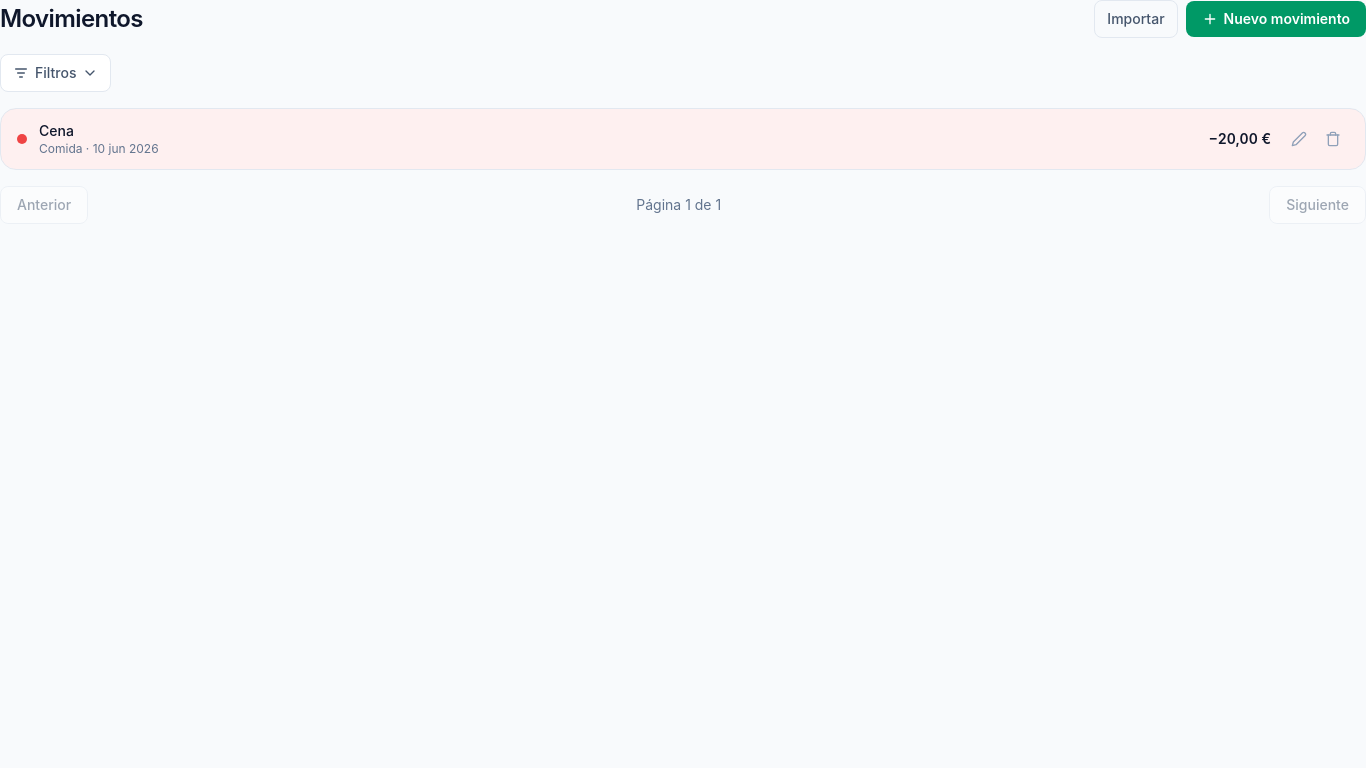
TransactionsPage › keeps the loaded list visible and shows a banner when the delete fails
Expected: the text "Cena" is shown, [39, 122, 74, 139]
Click the button named "Eliminar movimiento" at [1333, 139], box [1317, 123, 1349, 155]
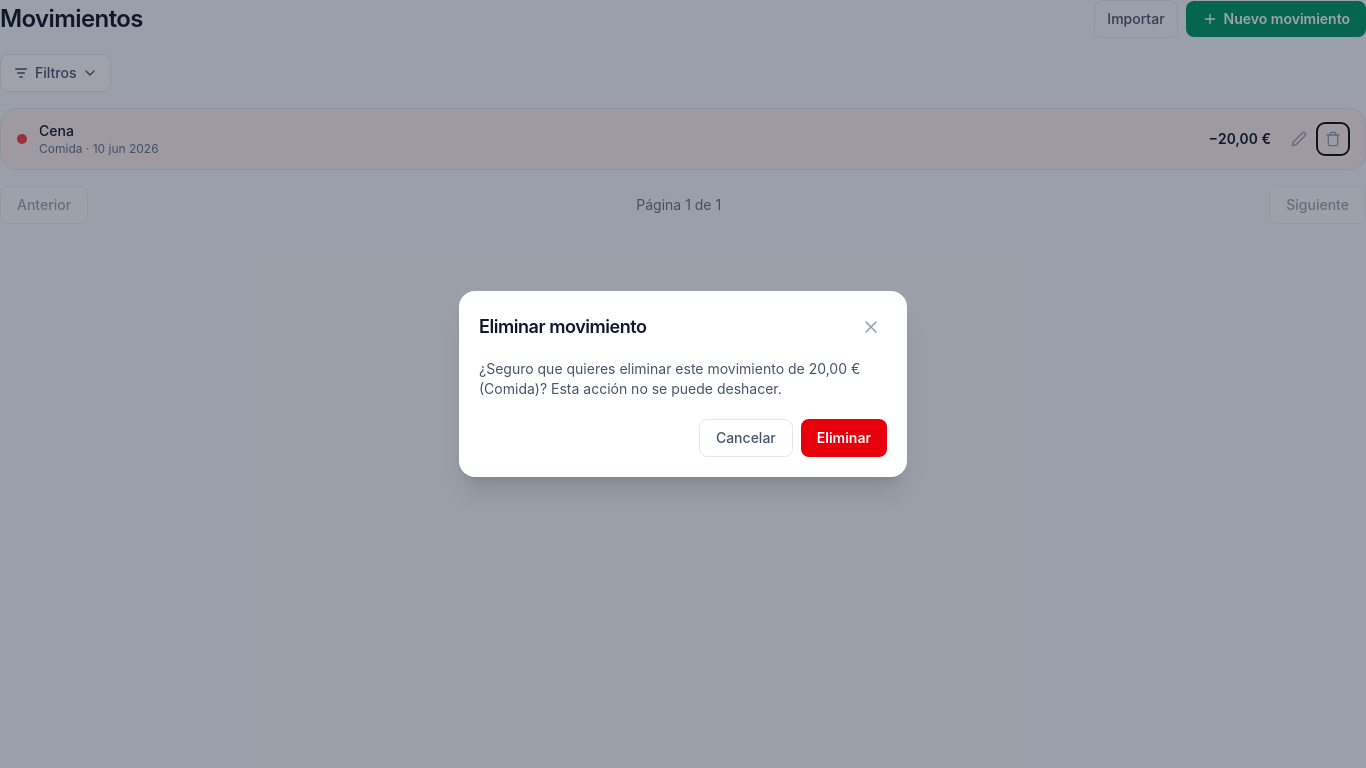
Click the button "Eliminar" at [844, 438], box [801, 419, 887, 457]
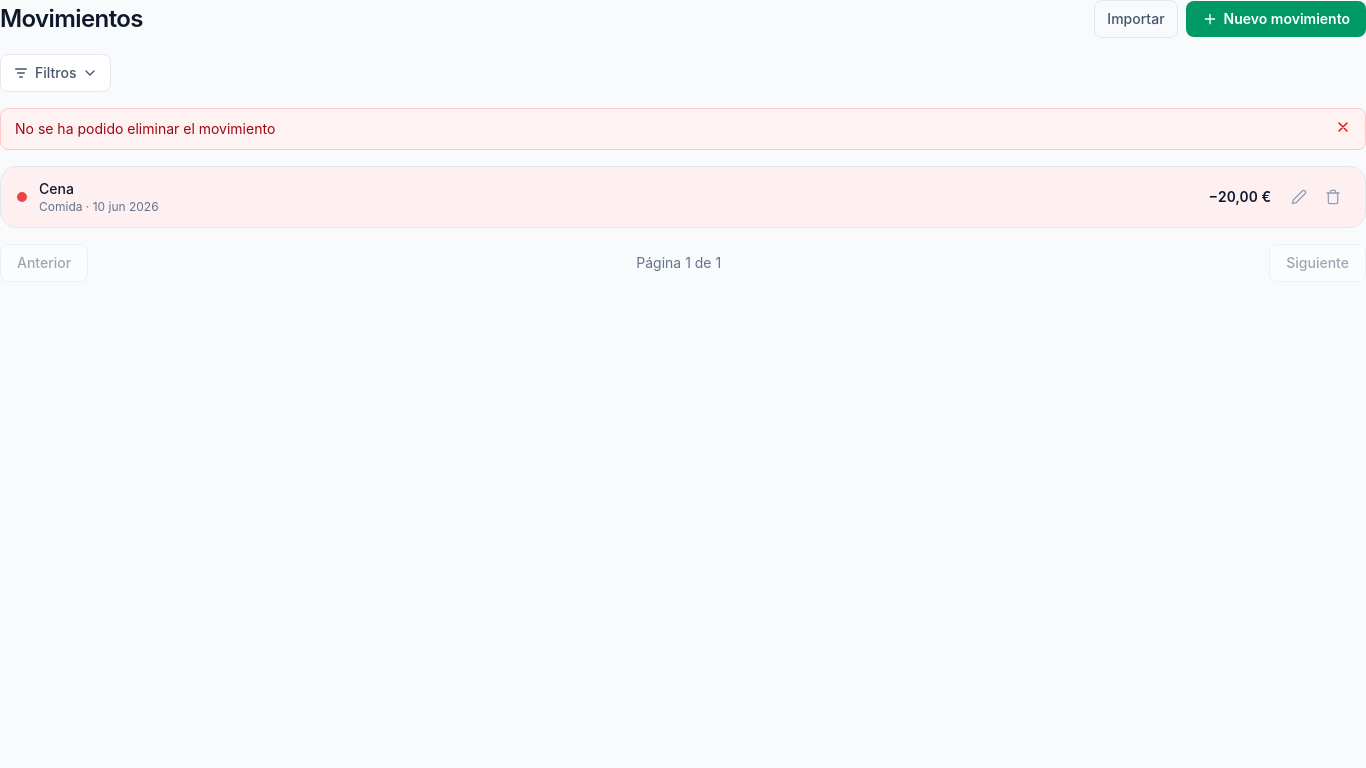
Expected: the text "Cena" is shown, [39, 180, 74, 197]
Expected: the message reads "No se ha podido eliminar el movimiento", [15, 120, 275, 137]
